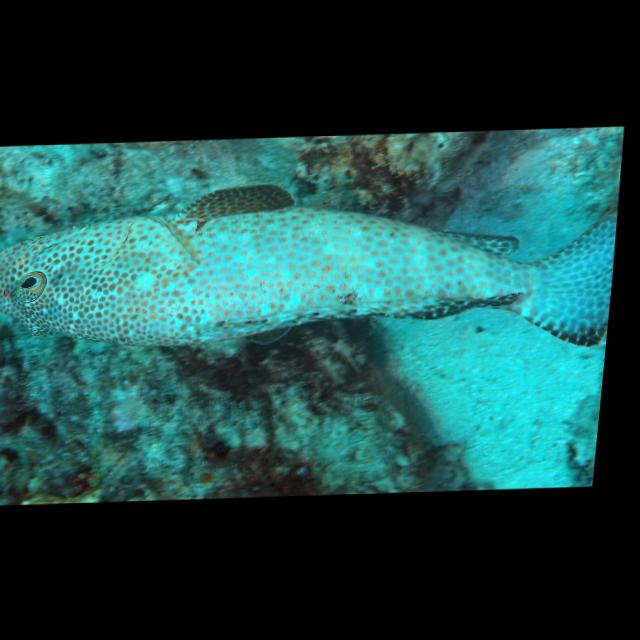Groupers: (0, 170, 623, 367)
